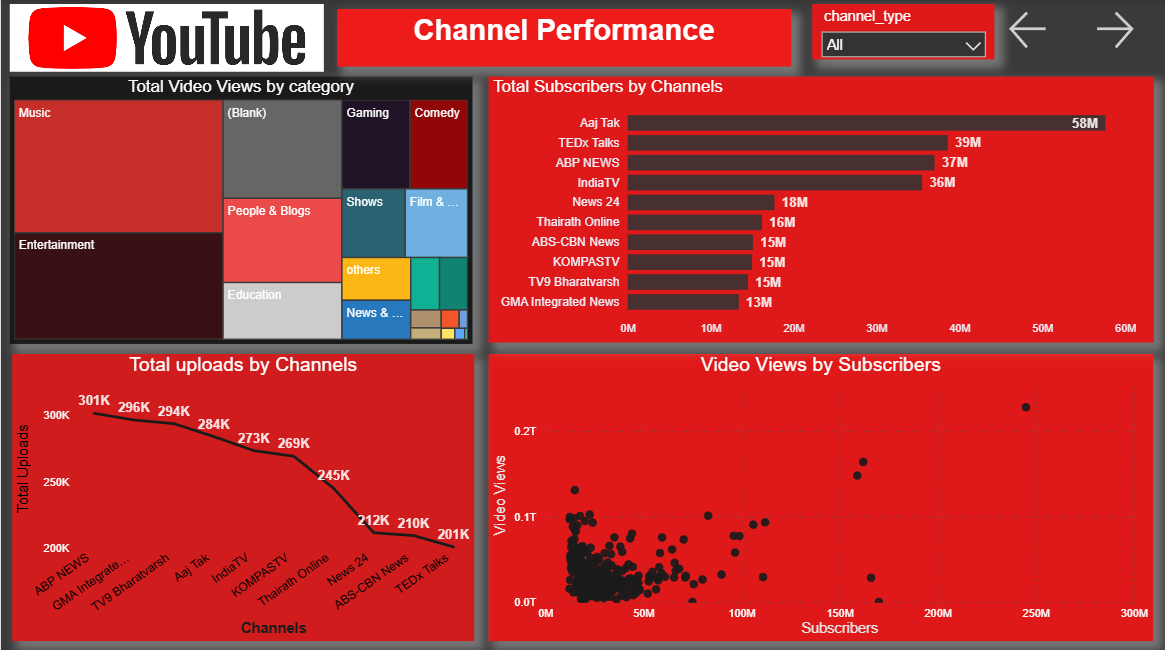

This screenshot's page, from the dashboard's own definition file:
{"tool":"powerbi","page":{"name":"Channel Performance","canvas":[1280,720],"ordinal":1},"visuals":[{"type":"treemap","fields":{"Group":["GlobalYouTubeStatistics.category"],"Values":["GlobalYouTubeStatistics.Total Video Views"]},"box":[9.6,85.1,507.7,293.7],"z":0},{"type":"scatterChart","fields":{"X":["GlobalYouTubeStatistics.subscribers"],"Y":["Sum(GlobalYouTubeStatistics.video_views)"]},"box":[535.7,390,729.7,315],"z":1000},{"type":"lineChart","title":"Total uploads by Channels","fields":{"Category":["GlobalYouTubeStatistics.Youtuber"],"Y":["Sum(GlobalYouTubeStatistics.uploads)"]},"box":[12.5,389.8,507.2,315],"z":2000},{"type":"textbox","box":[494.3,3,350,51],"z":3000},{"type":"clusteredBarChart","title":"Total Subscribers by Channels","fields":{"Category":["GlobalYouTubeStatistics.Youtuber"],"Y":["Sum(GlobalYouTubeStatistics.subscribers)"]},"box":[535.2,75.5,730,301.9],"z":4000},{"type":"image","box":[9.6,5.5,344.4,74.1],"z":5000},{"type":"actionButton","box":[1196,8.9,69.4,51.6],"z":6000},{"type":"actionButton","box":[1101.7,8.9,76.5,51.6],"z":7000},{"type":"slicer","fields":{"Values":["GlobalYouTubeStatistics.channel_type"]},"box":[890.6,5.5,200.3,61],"z":8000}]}

Visuals, with their boxes in screenshot pixels (x1, y1, x2, y2), scaled from the page's 1280x720 canvas onto the 1165x650 screenshot:
treemap - GlobalYouTubeStatistics.category x GlobalYouTubeStatistics.Total Video Views: rect(9, 77, 471, 342)
scatterChart - GlobalYouTubeStatistics.subscribers x Sum(GlobalYouTubeStatistics.video_views): rect(488, 352, 1152, 636)
"Total uploads by Channels" lineChart: rect(11, 352, 473, 636)
textbox: rect(450, 3, 768, 49)
"Total Subscribers by Channels" clusteredBarChart: rect(487, 68, 1152, 341)
image: rect(9, 5, 322, 72)
actionButton: rect(1089, 8, 1152, 55)
actionButton: rect(1003, 8, 1072, 55)
slicer - GlobalYouTubeStatistics.channel_type: rect(811, 5, 993, 60)
